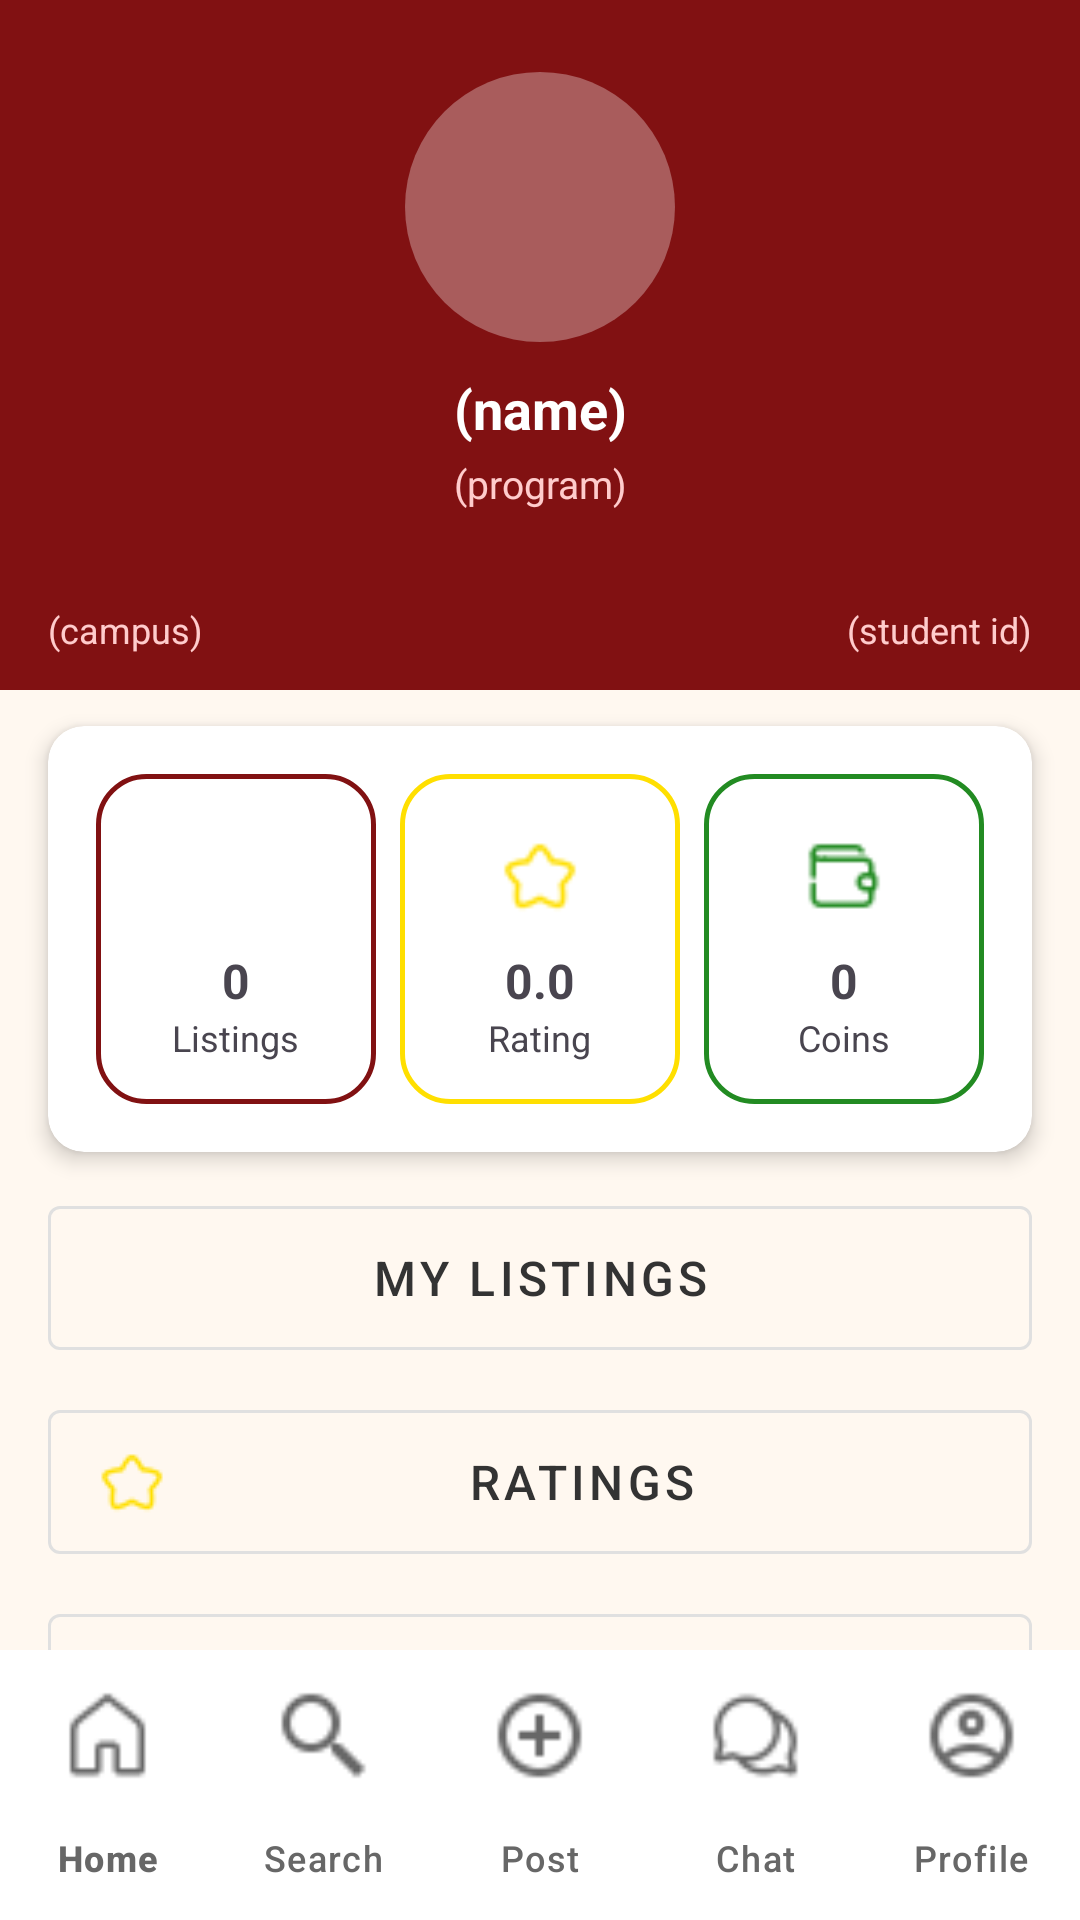

Named icons in this screenshot (1080 x 1920) and their centers, [x,y]:
wallet: [844,876]
